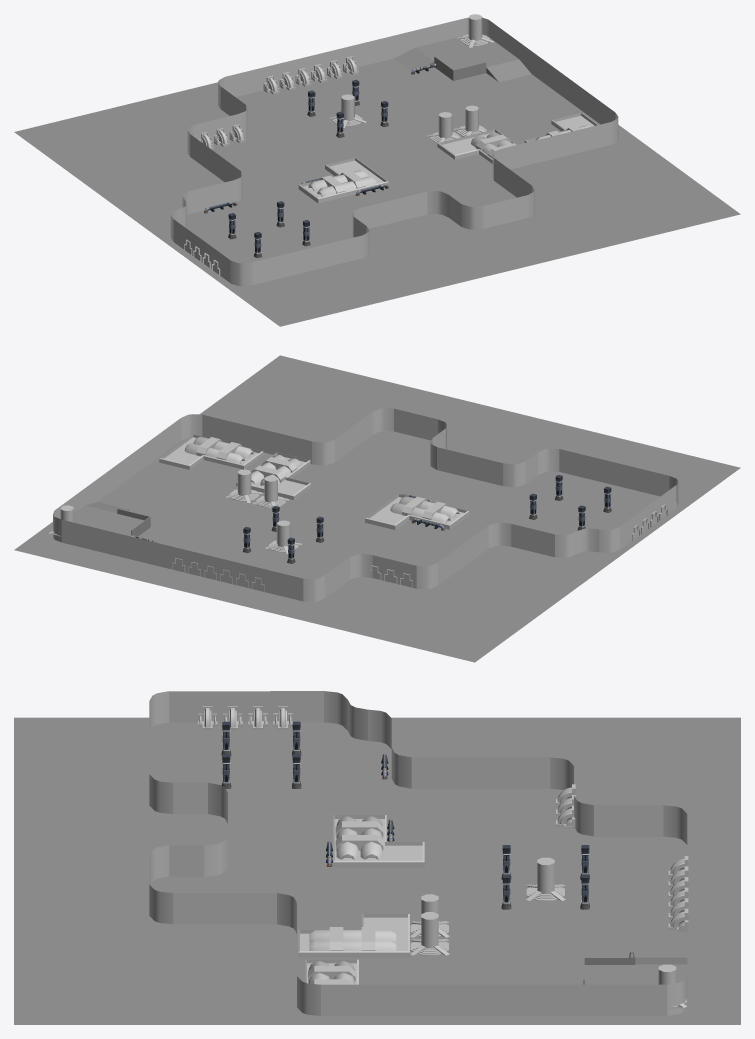
File: model_level_v1_08.FBX
3 views of the same model, one above another, from view 1: azimuth 30°, elevation 25°; view 2: azimuth 150°, elevation 25°; view 3: azimuth 270°, elevation 25° (orthographic). The views are drawn at different scales.
Visible parts, largest first — view 1: floor, walls, walls_flipped, plateau, largeobstacle001, largeobstacle003, largeobstacle004, terminal pillar004, terminal pillar001, terminal pillar003, terminal pillar; view 2: floor, walls_flipped, walls, largeobstacle004, largeobstacle001, plateau, largeobstacle003, terminal pillar, terminal pillar001, terminal pillar003; view 3: floor, walls, largeobstacle003, largeobstacle001, plateau, largeobstacle004, terminal pillar, terminal pillar003, terminal pillar001.
Part boxes in pixels (x1=…): floor: x1=14, y1=58, x2=740, y2=326; walls: x1=171, y1=17, x2=618, y2=286; walls_flipped: x1=170, y1=17, x2=617, y2=286; plateau: x1=394, y1=36, x2=531, y2=82; largeobstacle001: x1=298, y1=157, x2=388, y2=203; largeobstacle003: x1=437, y1=129, x2=516, y2=163; largeobstacle004: x1=524, y1=113, x2=597, y2=142; terminal pillar004: x1=457, y1=14, x2=493, y2=47; terminal pillar001: x1=427, y1=112, x2=460, y2=142; terminal pillar003: x1=329, y1=94, x2=366, y2=127; terminal pillar: x1=454, y1=105, x2=487, y2=136; floor: x1=14, y1=355, x2=740, y2=662; walls_flipped: x1=53, y1=408, x2=678, y2=601; walls: x1=53, y1=408, x2=677, y2=601; largeobstacle004: x1=159, y1=434, x2=263, y2=469; largeobstacle001: x1=365, y1=494, x2=469, y2=529; plateau: x1=47, y1=502, x2=150, y2=537; largeobstacle003: x1=236, y1=452, x2=311, y2=499; terminal pillar: x1=226, y1=469, x2=262, y2=502; terminal pillar001: x1=252, y1=476, x2=289, y2=507; terminal pillar003: x1=265, y1=520, x2=301, y2=553; floor: x1=14, y1=717, x2=740, y2=1024; walls: x1=149, y1=691, x2=687, y2=1015; largeobstacle003: x1=298, y1=914, x2=409, y2=957; largeobstacle001: x1=333, y1=815, x2=424, y2=867; plateau: x1=583, y1=957, x2=687, y2=1008; largeobstacle004: x1=305, y1=959, x2=358, y2=984; terminal pillar: x1=410, y1=912, x2=449, y2=955; terminal pillar003: x1=526, y1=857, x2=565, y2=900; terminal pillar001: x1=410, y1=894, x2=449, y2=937.
Bounding box in the file's own units: 21000 × 1478 × 21000.
